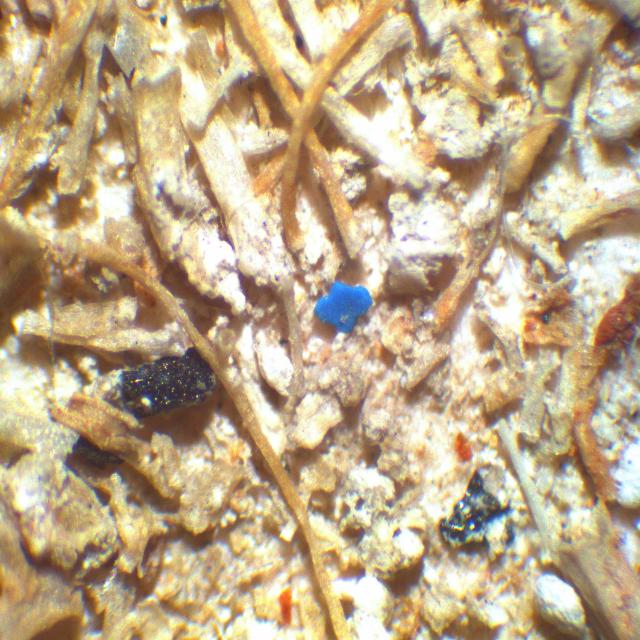microplastic: (314, 281, 373, 334)
